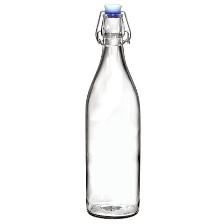bottle: (83, 1, 144, 220)
